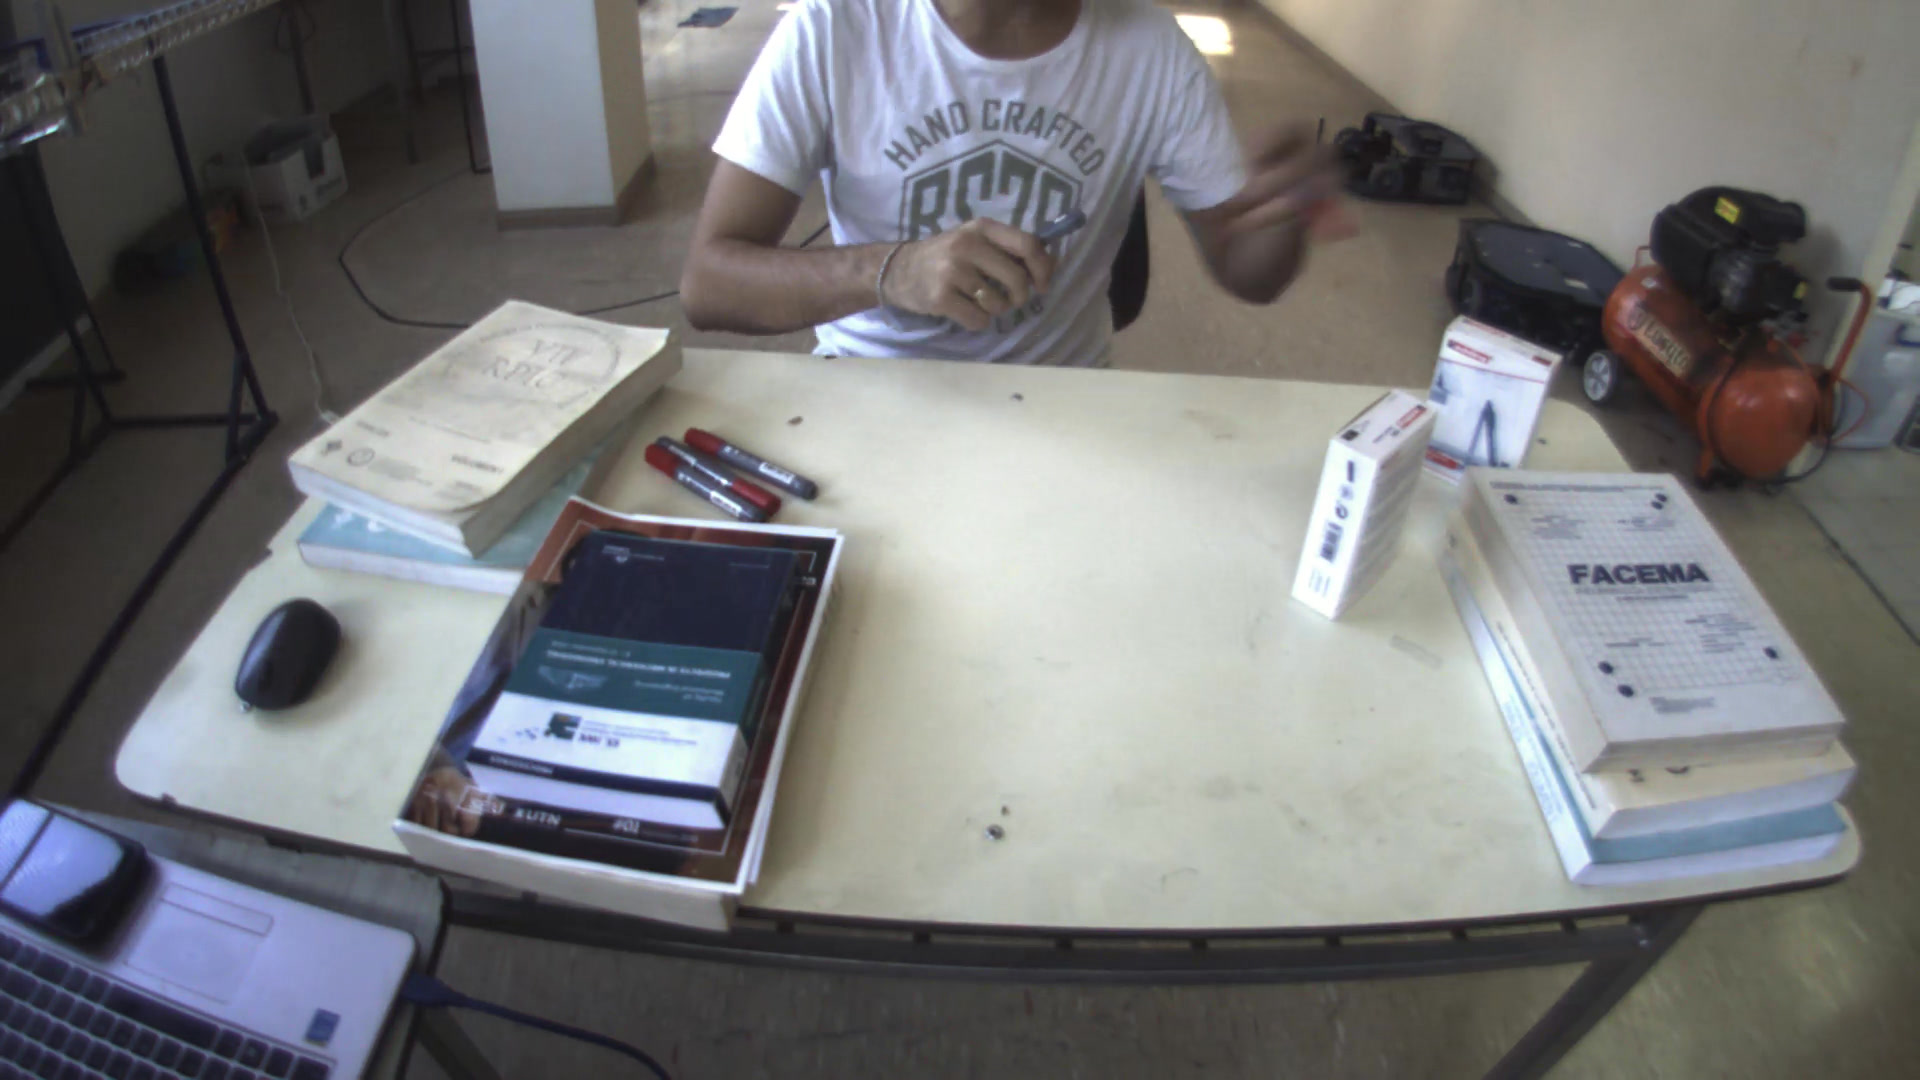hand: (874, 204, 1059, 332), (1217, 123, 1361, 251)
